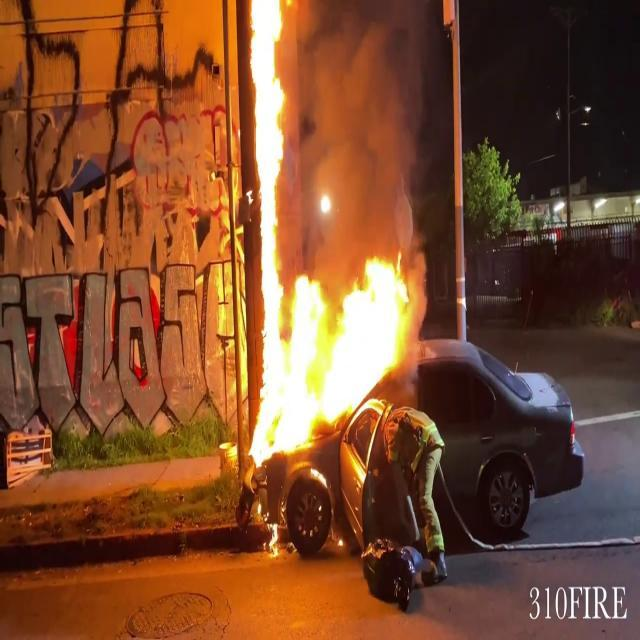Fire: (248, 245, 418, 458), (244, 0, 294, 457)
Smoke: (288, 0, 438, 253)
